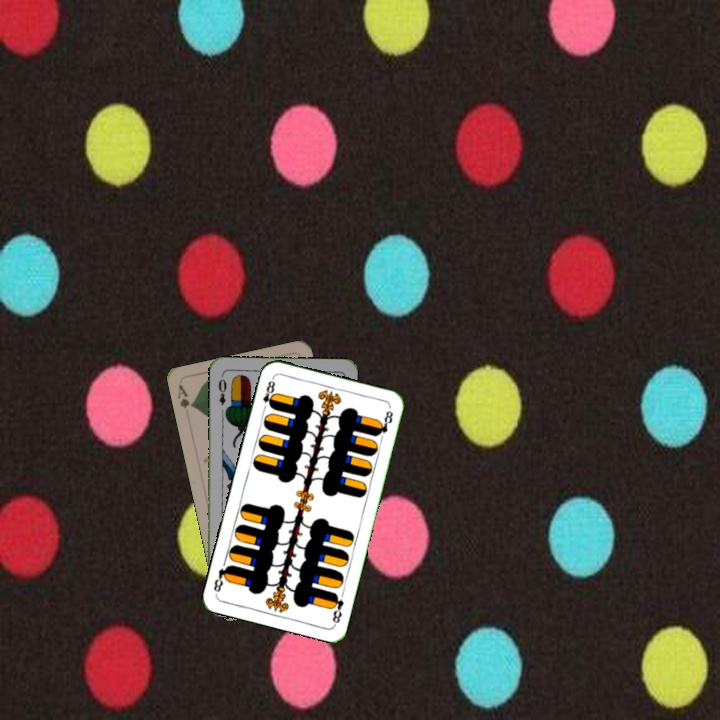E8: (259, 374, 278, 414), (327, 589, 346, 627)
EO: (214, 372, 229, 408)
GA: (173, 381, 196, 411)
